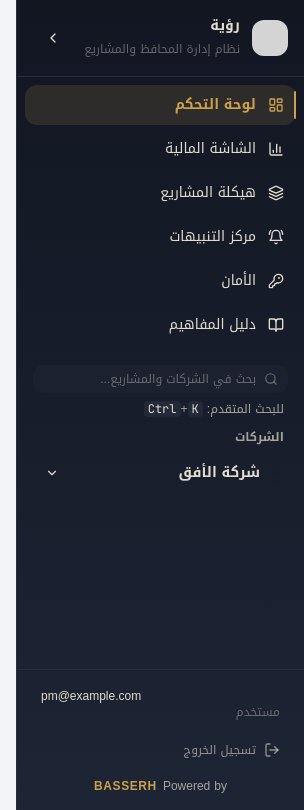
Test case: AppSidebar › shows the user links an admin gets and the audit link an owner gets, and navigates on a click
Expected: the button "لوحة التحكم" is shown, [25,85,296,125]
Expected: the button "إدارة المستخدمين" is not shown
What coordinates should you click on to do the following:
click the button "مركز التنبيهات"
I would click on:
 (213, 236)
Its box is [25,217,296,257].
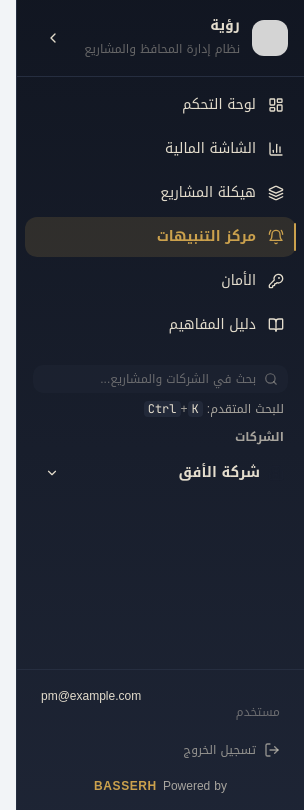
What coordinates should you click on to do the following:
click the button "لوحة التحكم"
I would click on:
 (219, 104)
Its box is [25,85,296,125].
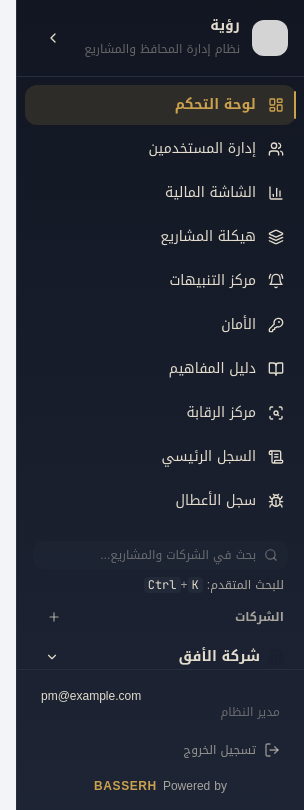
Result: the button "إدارة المستخدمين" is shown at [25,129,296,169]
Result: the button "السجل الرئيسي" is shown at [25,437,296,477]
What coordinates should you click on to do the following:
click the button named "إضافة شركة"
I would click on:
 (49, 617)
Its box is [37,605,61,629].
(page scrolled)
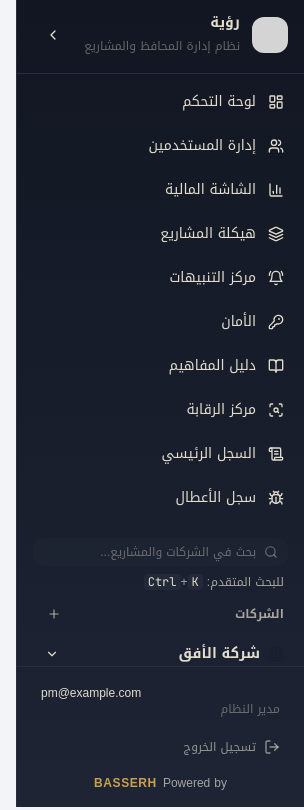
Result: the text with test id "path" reads "/companies/new" at [188,779,303,809]
